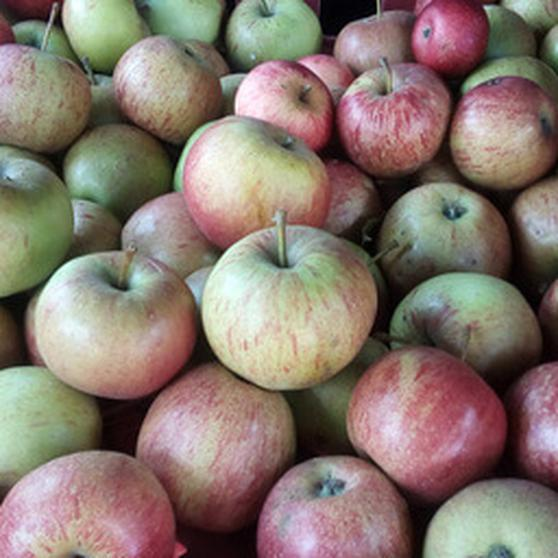apple: (1, 348, 114, 498)
